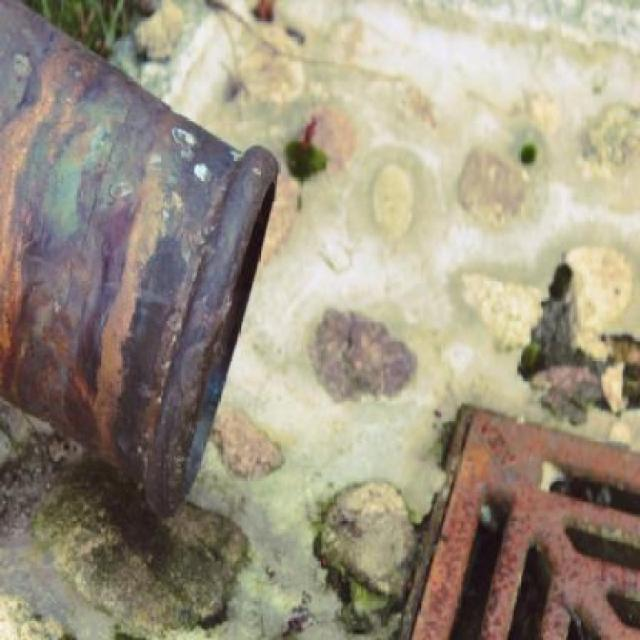corrosion: (2, 0, 282, 517), (394, 400, 640, 640)
